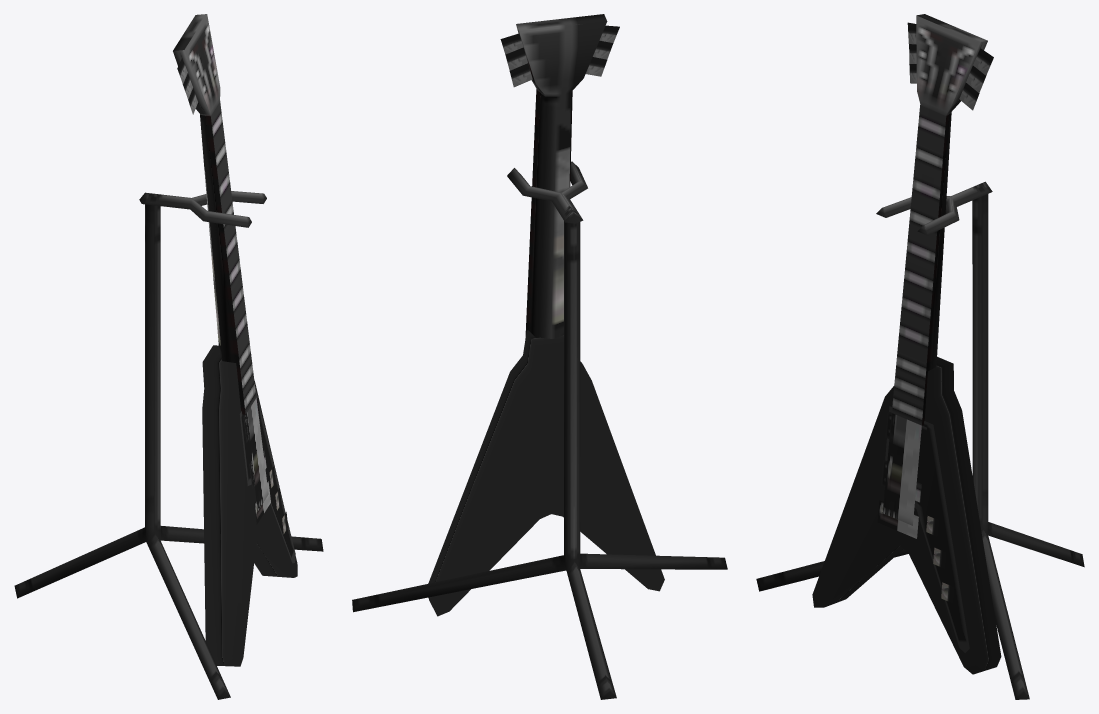
Rendered from rmk_gtr_Egtr03.dae.
The picture shows the model from 3 angles, left to right: view 1: azimuth 30°, elevation 25°; view 2: azimuth 150°, elevation 25°; view 3: azimuth 270°, elevation 25°; orthographic projection. The views are drawn at different scales.
Visible parts, largest first — view 1: rmk_gtr_Egtr03; view 2: rmk_gtr_Egtr03; view 3: rmk_gtr_Egtr03.
Part boxes in pixels (x1,y1,x2,y2): rmk_gtr_Egtr03: [14, 14, 323, 699]; rmk_gtr_Egtr03: [352, 14, 727, 699]; rmk_gtr_Egtr03: [756, 14, 1084, 699].
Bounding box in the file's own units: 22.8 × 45.34 × 22.8.
Materials: 3 (3 with a texture image).
